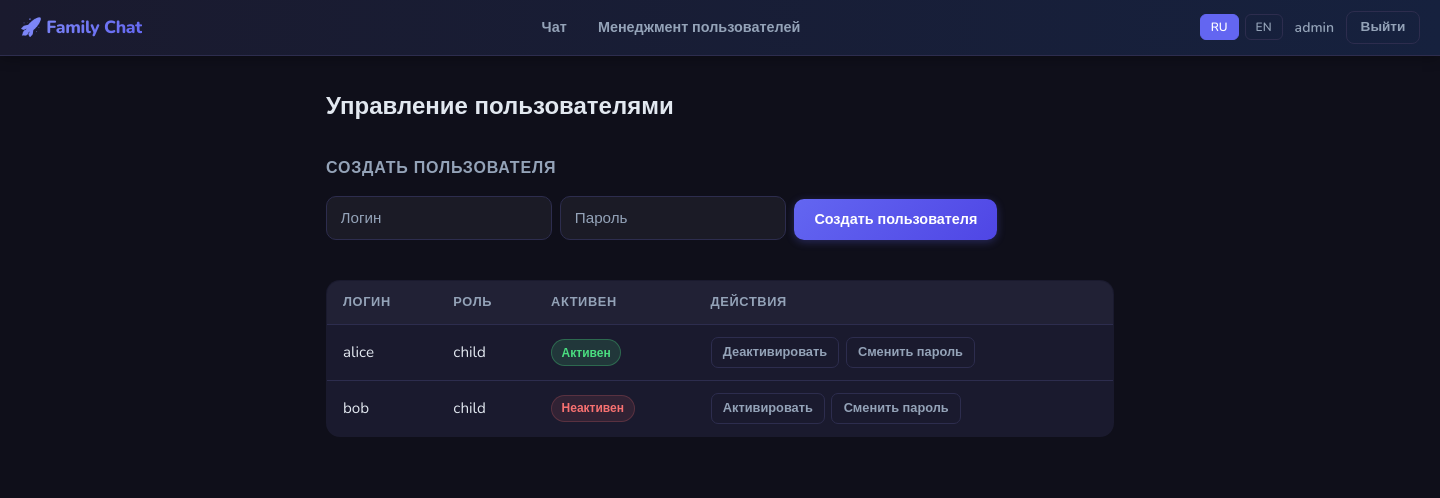
Change password › shows password input when change password is clicked
The width and height of the screenshot is (1440, 498).
Expected: the text "alice" is shown, [326, 325, 437, 380]
Click the button "Сменить пароль" in the row of "alice" at (910, 353), box [846, 337, 975, 368]
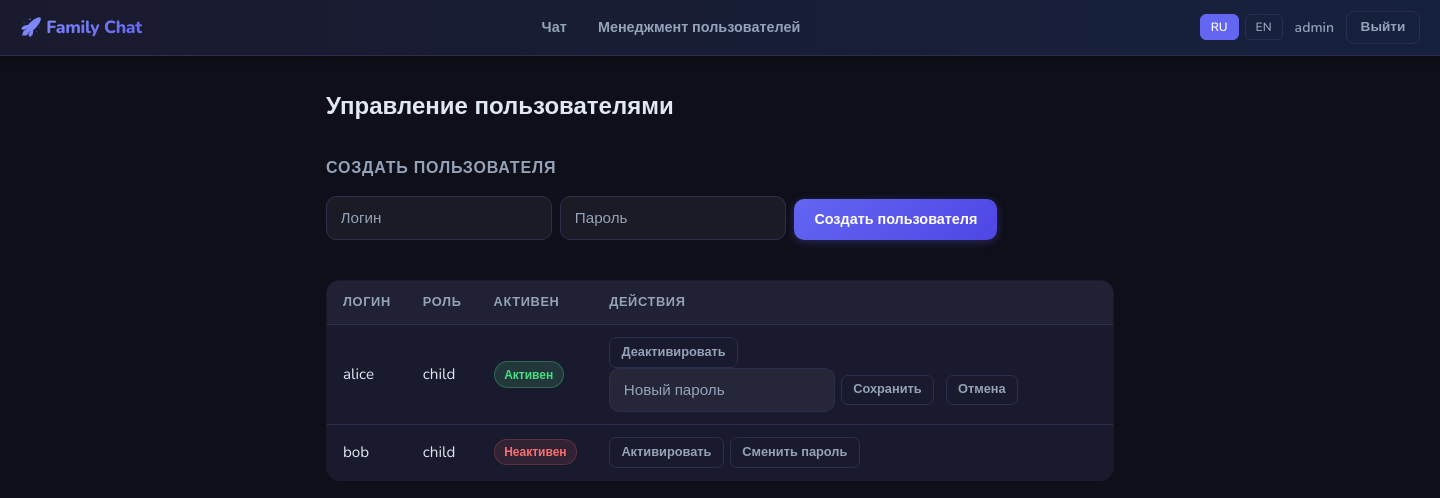
Expected: the password field with placeholder "Новый пароль" is shown, [609, 368, 835, 412]
